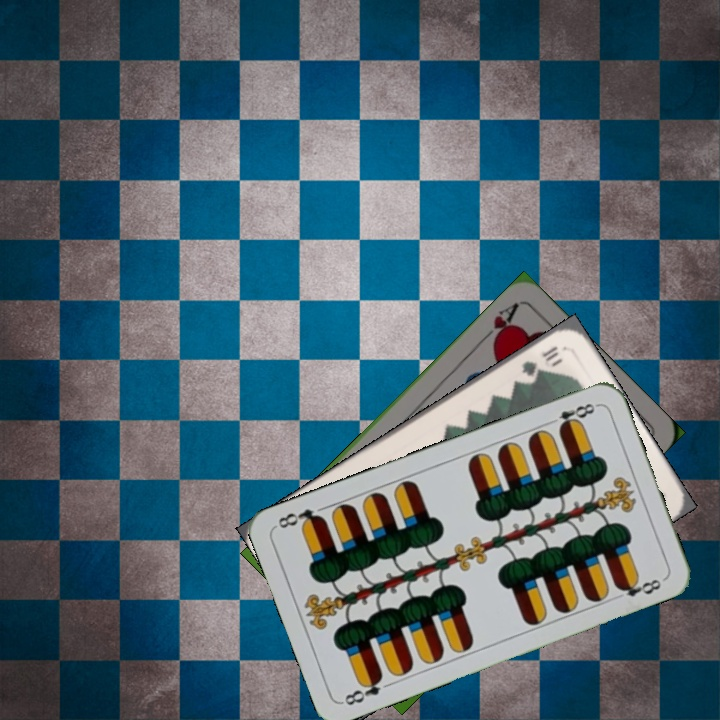E8: (543, 399, 600, 433), (339, 670, 386, 709)
G10: (517, 341, 561, 379)
HA: (475, 298, 521, 349)
